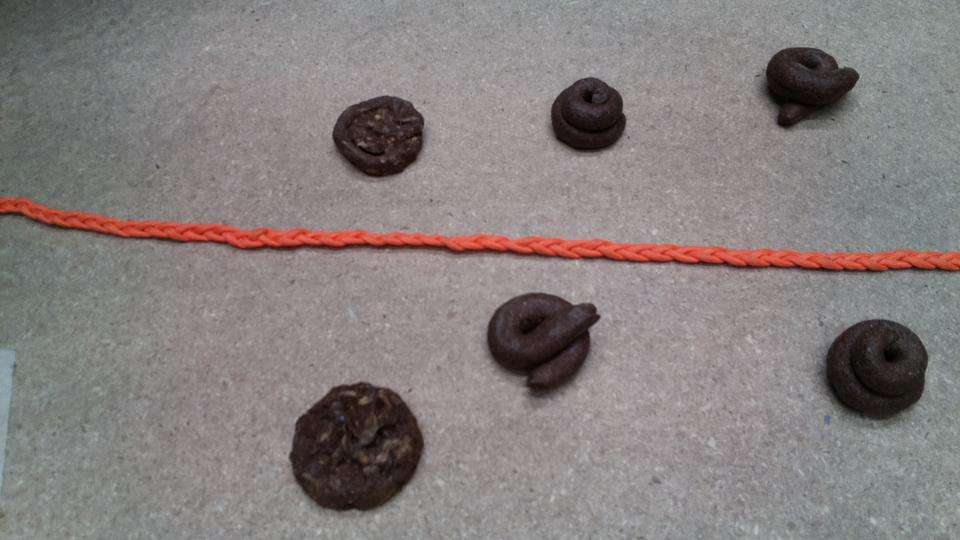poop: (282, 373, 436, 514), (481, 289, 604, 400), (824, 314, 931, 421), (756, 41, 862, 131), (331, 91, 433, 178), (546, 74, 629, 155)
rope: (3, 188, 960, 284)
